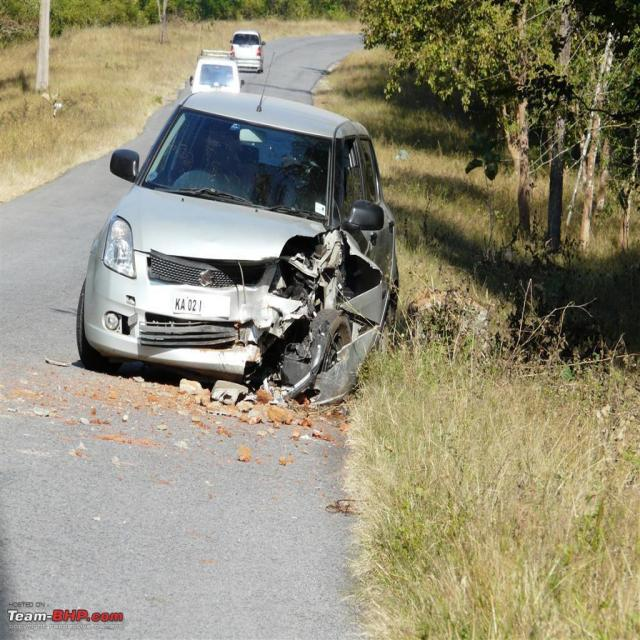crush: (139, 197, 383, 408)
